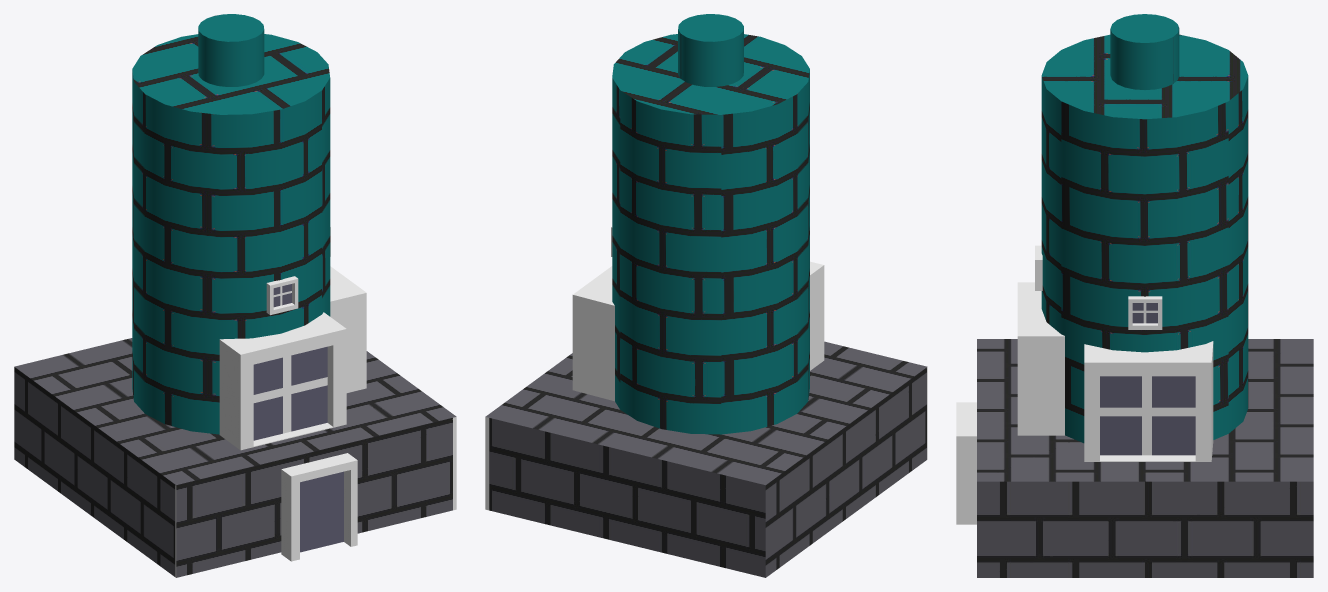
Rendered from shapes_cyl.fbx.
The picture shows the model from 3 angles, left to right: view 1: azimuth 30°, elevation 25°; view 2: azimuth 150°, elevation 25°; view 3: azimuth 270°, elevation 25°; orthographic projection. The views are drawn at different scales.
Visible parts, largest first — view 1: pCube27; view 2: pCube27; view 3: pCube27.
Boxes of the visible parts, x1,y1,x2,y2 form: pCube27: [14, 14, 456, 577]; pCube27: [485, 14, 927, 577]; pCube27: [956, 14, 1313, 577].
Bounding box in the file's own units: 9.91 × 15.51 × 10.52.
1 material, 1 textured.
